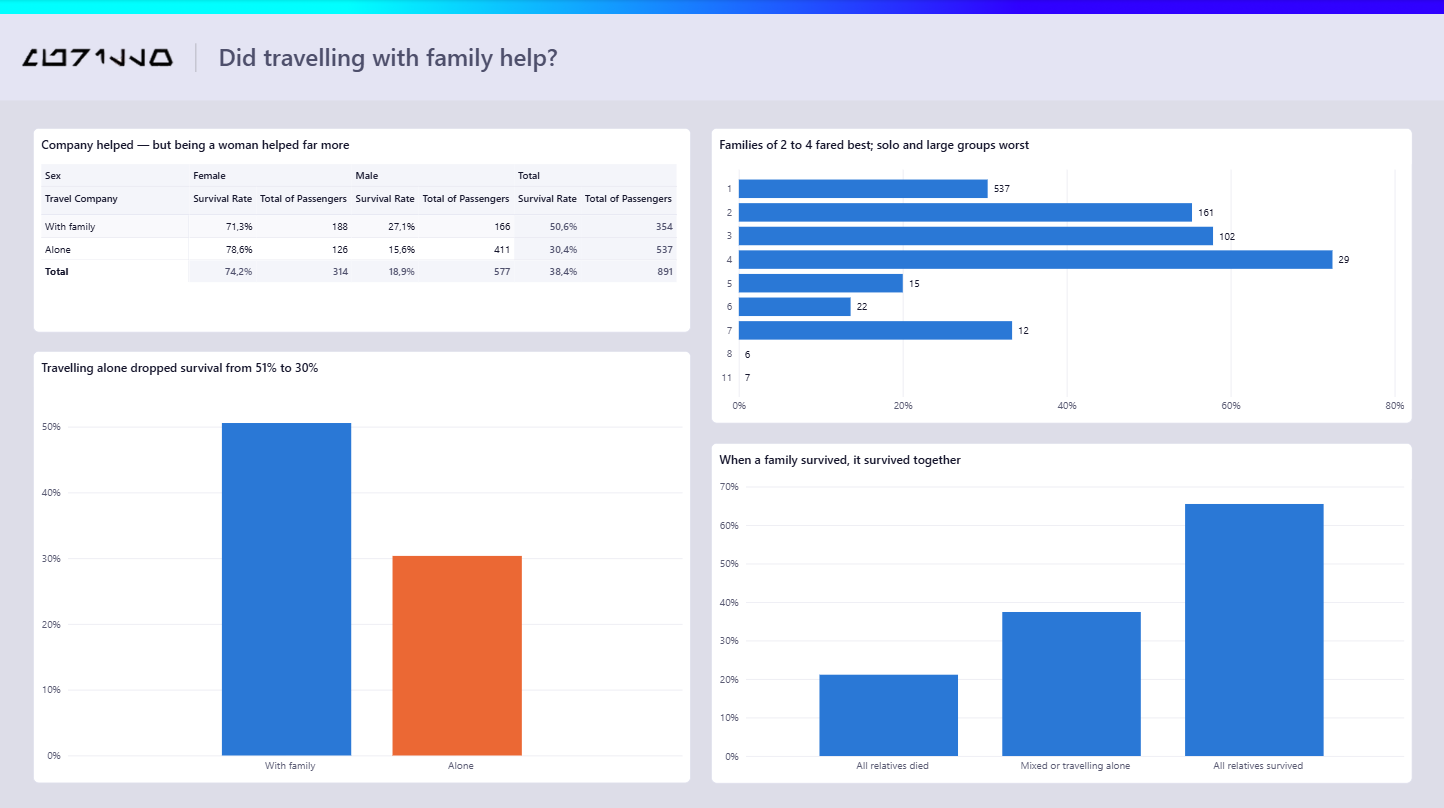

The page's visual inventory and layout, read from the dashboard file:
{"tool":"powerbi","page":{"name":"\tFamily & Company","canvas":[1920,1080],"ordinal":2},"visuals":[{"type":"pivotTable","title":"Company helped — but being a woman helped far more","fields":{"Columns":["d_sexo.Descricao"],"Rows":["f_titanic.Travel Company"],"Values":["_Measures.Taxa_Sobrevivencia","_Measures.Total_Passengers"]},"box":[43.3,171.7,875,271.7],"z":0},{"type":"columnChart","title":"Travelling alone dropped survival from 51% to 30%","fields":{"Category":["f_titanic.Travel Company"],"Y":["_Measures.Taxa_Sobrevivencia"]},"box":[43.3,468.3,875,575],"z":1000},{"type":"clusteredBarChart","title":"Families of 2 to 4 fared best; solo and large groups worst","fields":{"Category":["f_titanic.FamilySize"],"Y":["_Measures.Taxa_Sobrevivencia"]},"box":[945,171.7,933.3,393.3],"z":2000},{"type":"columnChart","title":"When a family survived, it survived together","fields":{"Category":["f_titanic.Family Outcome"],"Y":["_Measures.Taxa_Sobrevivencia"]},"box":[945,590,933.3,453.3],"z":3000},{"type":"textbox","box":[280,44.3,828.6,72.9],"z":4000}]}

Visuals, with their boxes in screenshot pixels (x1, y1, x2, y2), scaled from the page's 1920x1080 canvas onto the 1444x808 screenshot:
"Company helped — but being a woman helped far more" pivotTable: left=33, top=128, right=691, bottom=332
"Travelling alone dropped survival from 51% to 30%" columnChart: left=33, top=350, right=691, bottom=781
"Families of 2 to 4 fared best; solo and large groups worst" clusteredBarChart: left=711, top=128, right=1413, bottom=423
"When a family survived, it survived together" columnChart: left=711, top=441, right=1413, bottom=781
textbox: left=211, top=33, right=834, bottom=88
